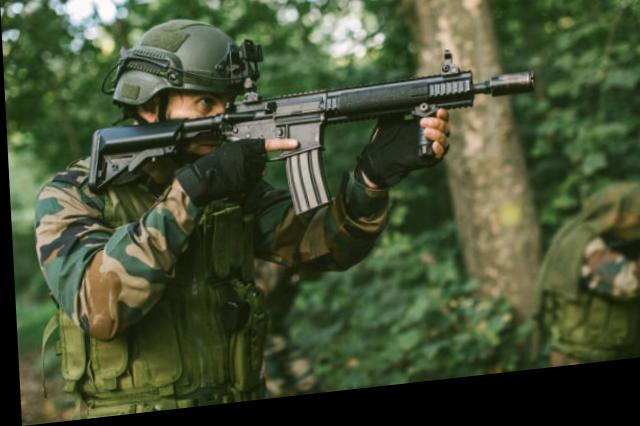other: (26, 21, 309, 417), (524, 198, 640, 379)
